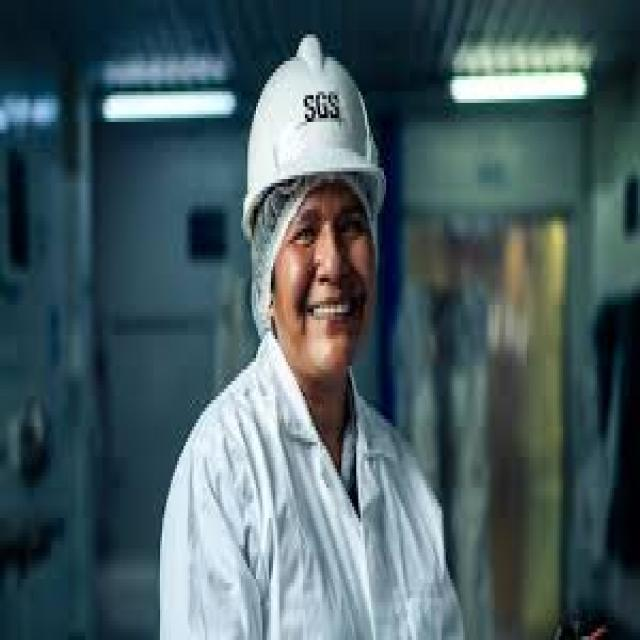Safety-Helmet: (239, 34, 388, 221)
